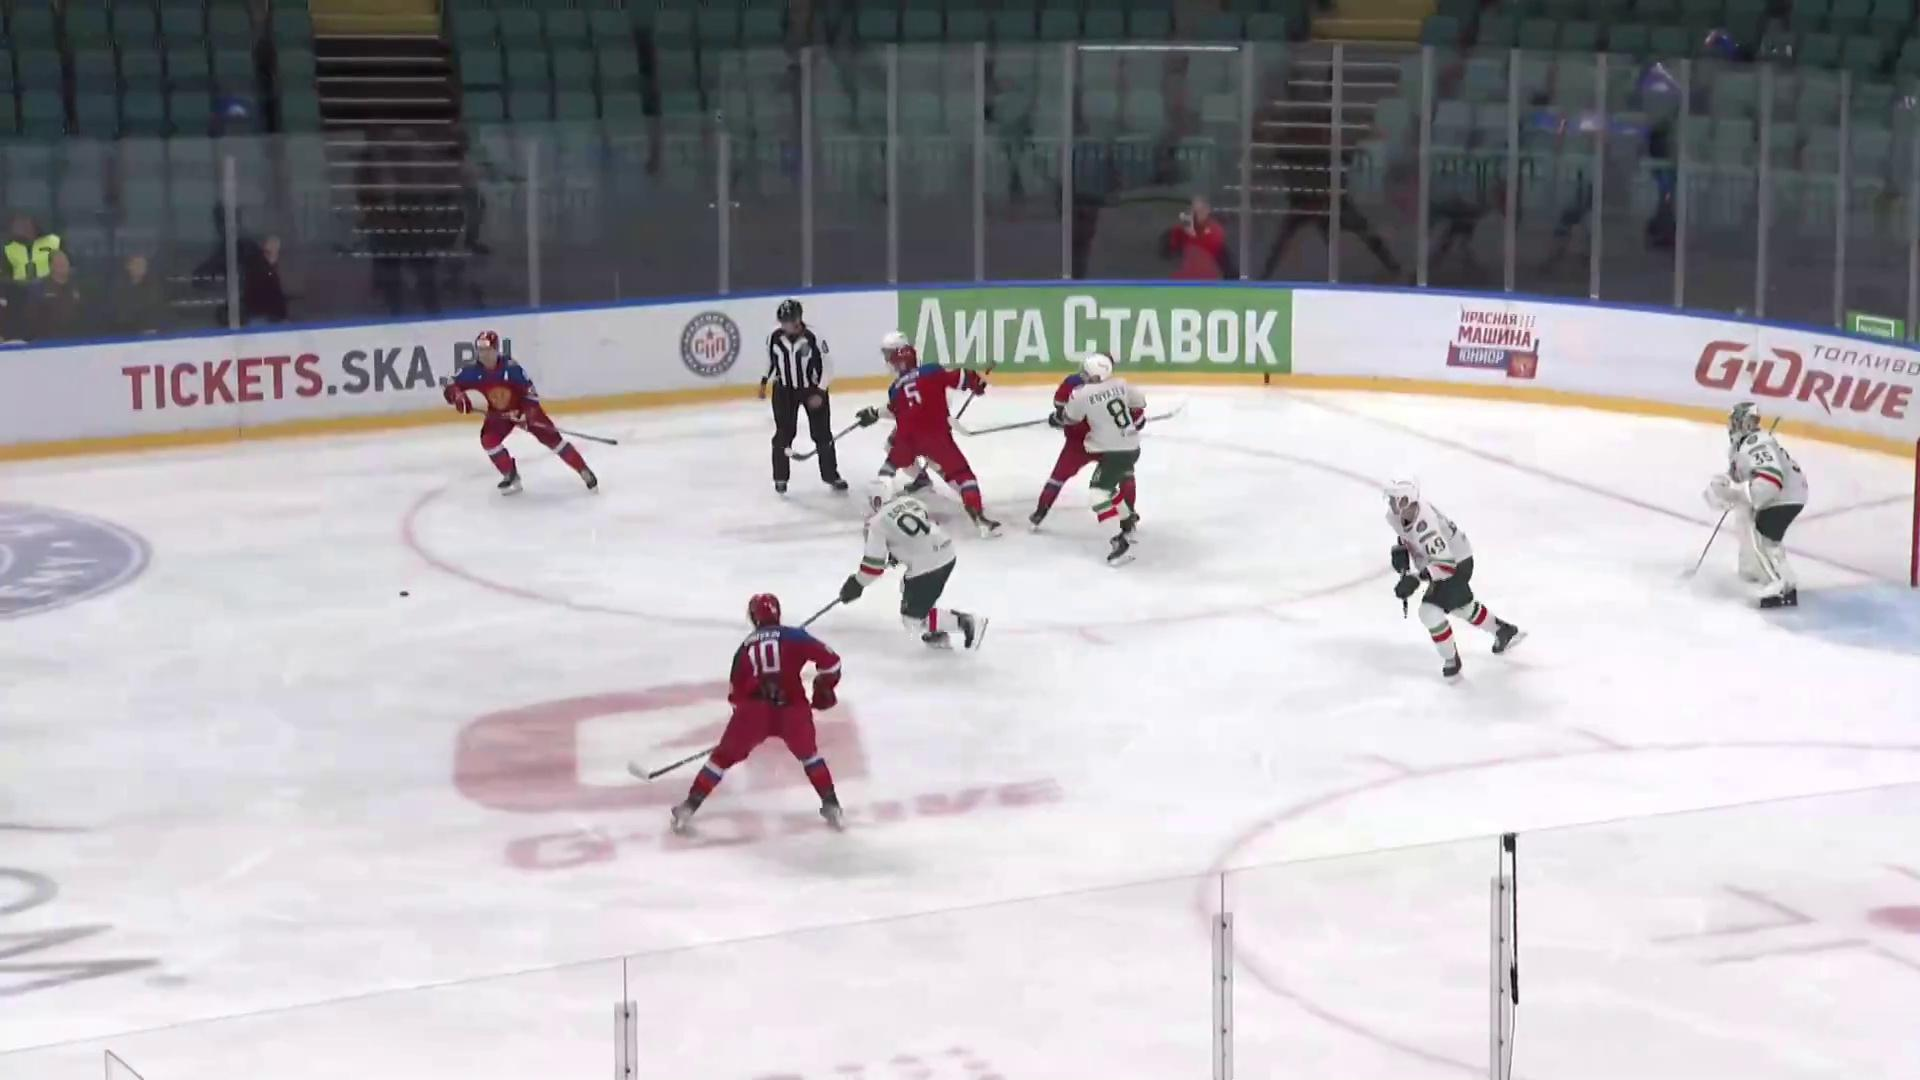ball: (398, 591, 410, 597)
